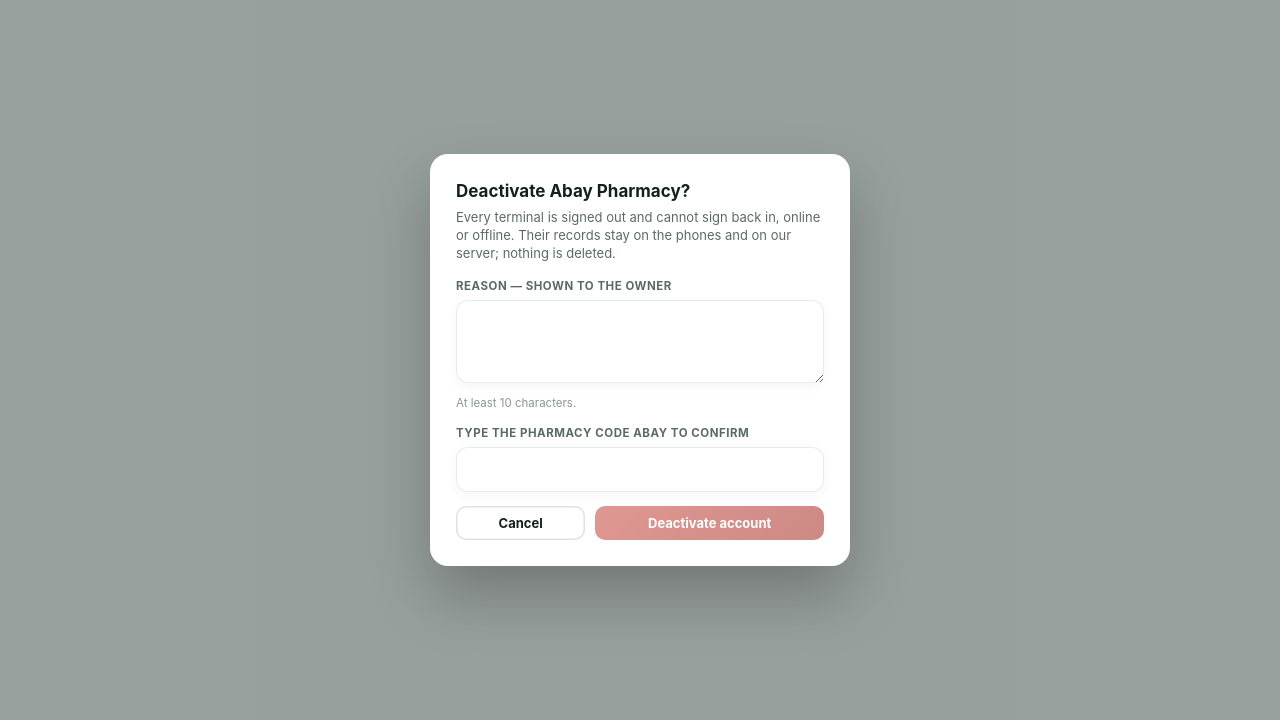
Scenario: deactivating a pharmacy › will not go ahead without a reason and the pharmacy code
Expected: the button "Deactivate account" is disabled, [595, 506, 824, 540]
In the text box labelled "Reason — shown to the owner": (640, 342) [456, 300, 824, 383], type "too short"
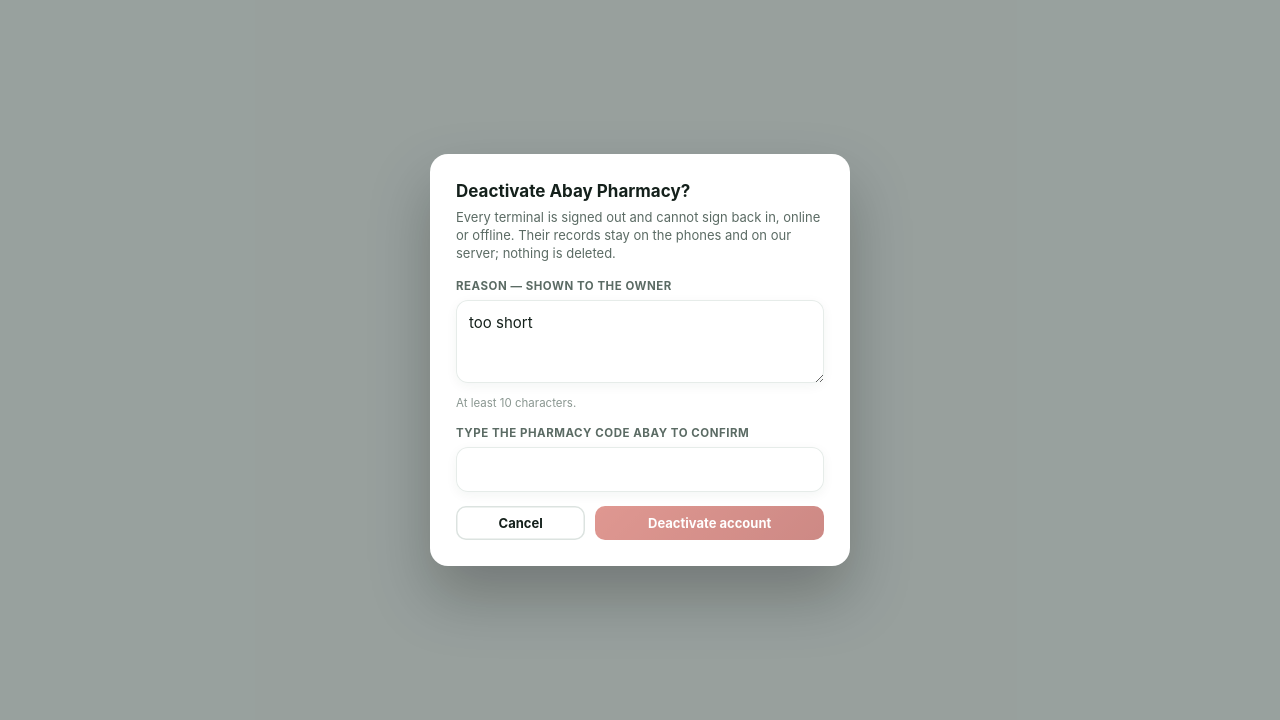
In the field labelled "Type the pharmacy code abay to confirm": (640, 470) [456, 447, 824, 492], type "abay"
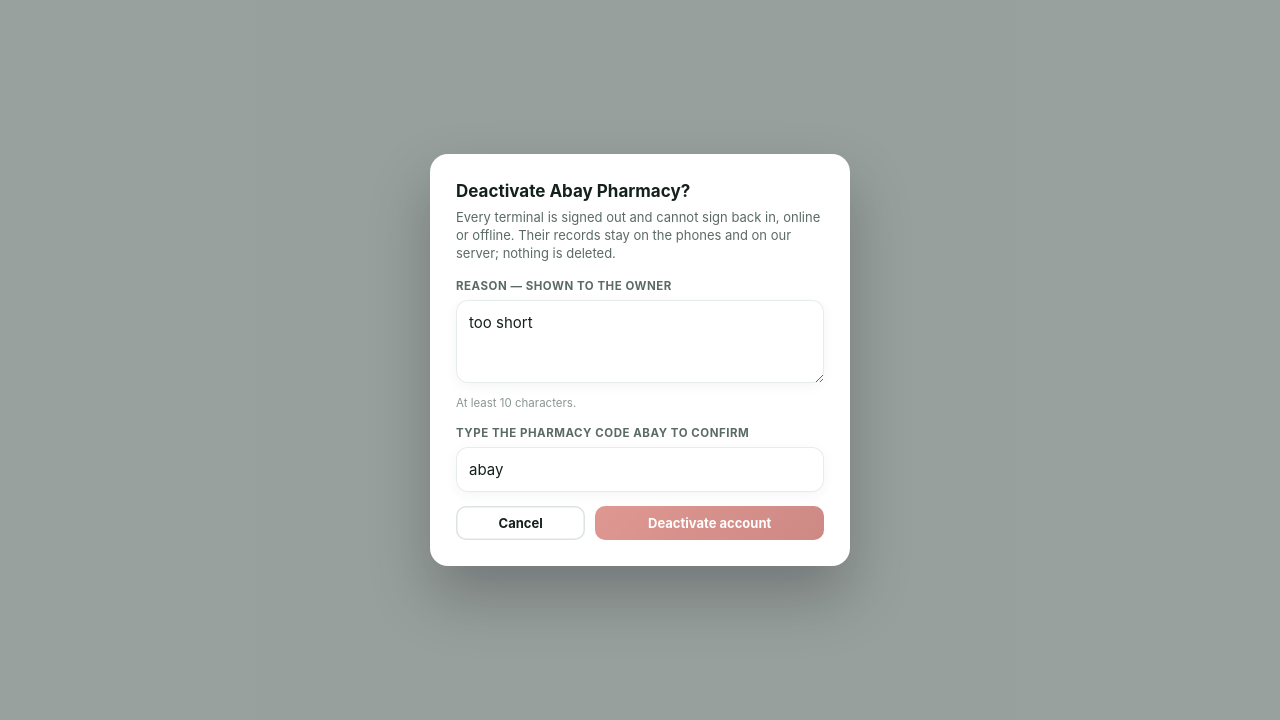
Expected: the button "Deactivate account" is disabled, [595, 506, 824, 540]
Replace the text in the text box labelled "Reason — shown to the owner" with "Selling without prescriptions.": (640, 342) [456, 300, 824, 383]
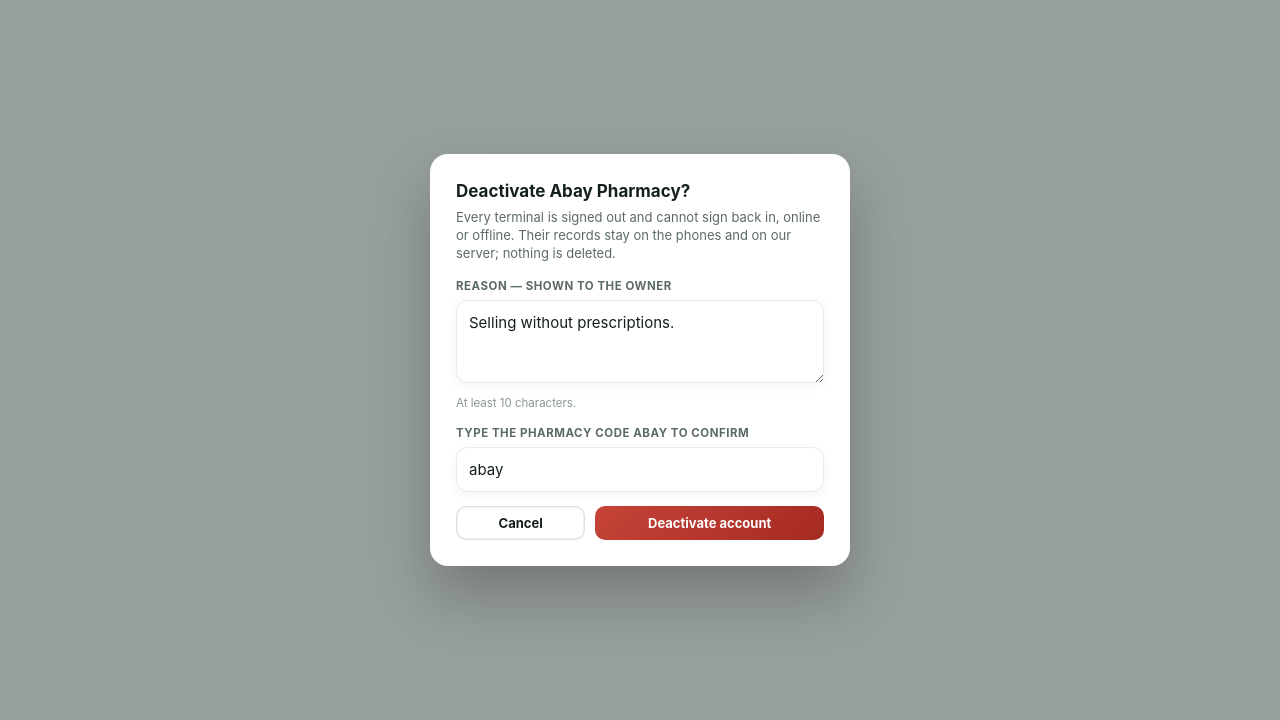
Replace the text in the field labelled "Type the pharmacy code abay to confirm" with "tana": (640, 470) [456, 447, 824, 492]
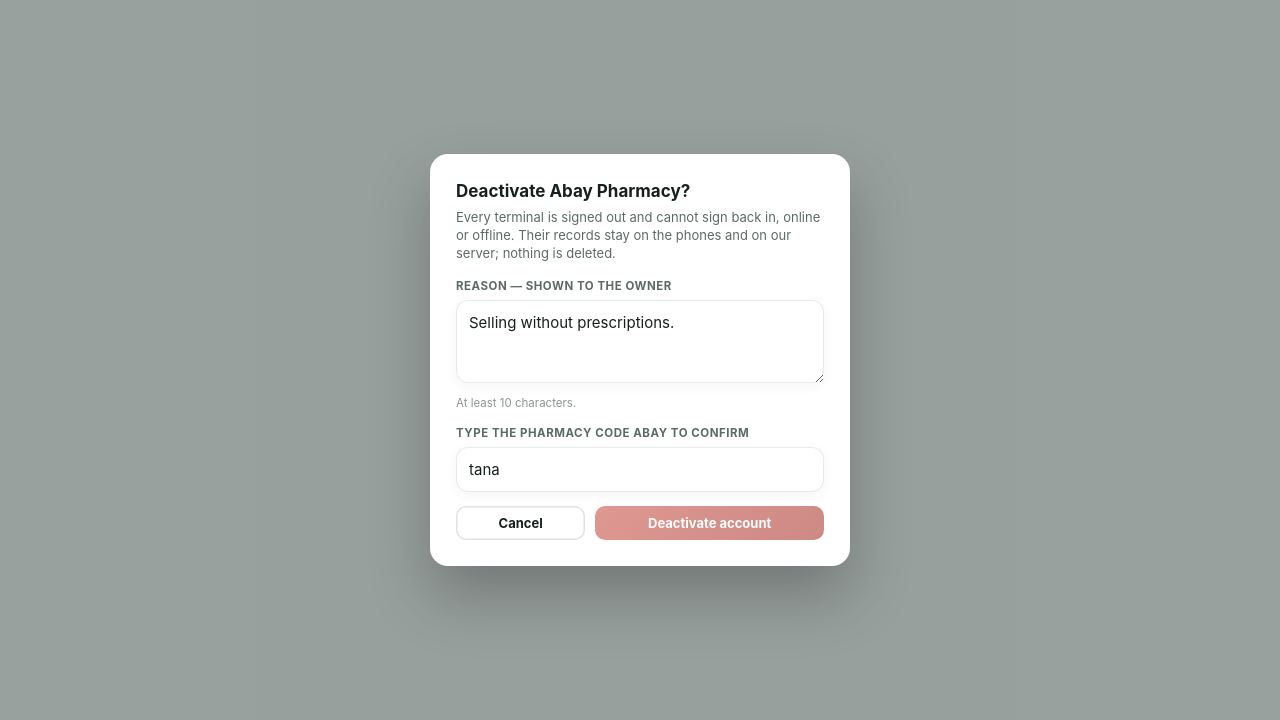
Now the button "Deactivate account" is disabled, box [595, 506, 824, 540]
